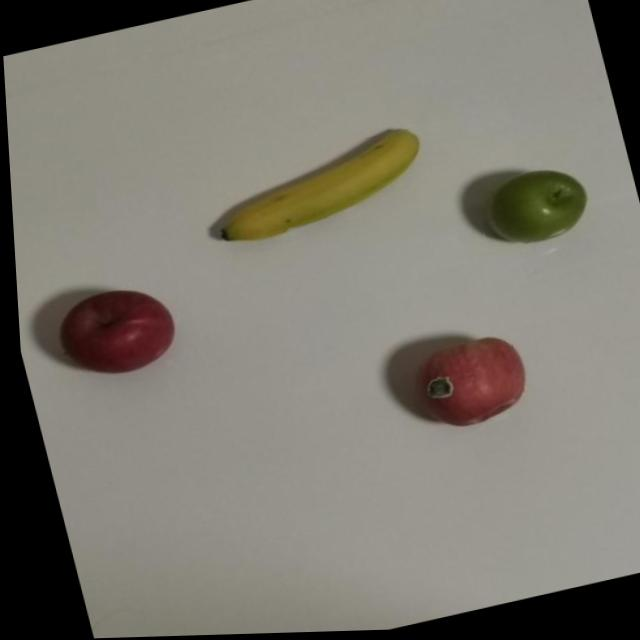Apple: (48, 278, 194, 389), (483, 163, 603, 262), (416, 336, 535, 434)
Banana: (195, 118, 444, 268)
